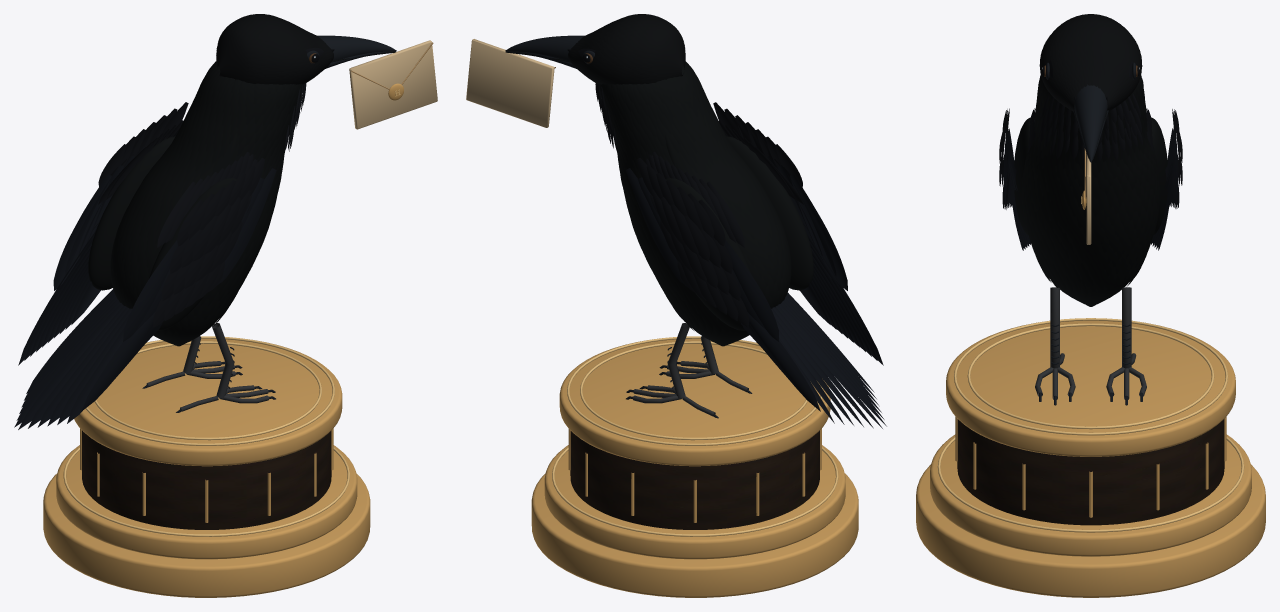
File: raven.glb
3 renders of one model, left to right at view 1: azimuth 30°, elevation 25°; view 2: azimuth 150°, elevation 25°; view 3: azimuth 270°, elevation 25°, orthographic. The views are drawn at different scales.
Visible parts, largest first — view 1: raven_root_Antique brass, raven_body_Raven charcoal underplumage, Pedestal.002, raven_wing_left_Raven satin coverts, raven_tail_Raven blue-black feather vanes, raven_head_Raven charcoal underplumage, raven_wing_right_Raven blue-black feather vanes, Parchment envelope, raven_wing_left_Raven blue-black feather vanes, raven_root_Gold edges, Folded wing volume.001, raven_root_Raven weathered claws (+3 smaller); view 2: raven_root_Antique brass, raven_body_Raven charcoal underplumage, Pedestal.002, raven_wing_right_Raven satin coverts, raven_head_Raven charcoal underplumage, raven_tail_Raven blue-black feather vanes, Parchment envelope, raven_wing_left_Raven blue-black feather vanes, raven_wing_right_Raven blue-black feather vanes, raven_root_Gold edges, Folded wing volume, raven_root_Raven weathered claws (+3 smaller); view 3: raven_root_Antique brass, raven_body_Raven charcoal underplumage, Pedestal.002, raven_head_Raven charcoal underplumage, raven_root_Gold edges, raven_body_Raven satin coverts, raven_root_Raven weathered claws, raven_head_Raven polished keratin, raven_wing_left_Raven blue-black feather vanes, raven_wing_right_Raven blue-black feather vanes, Folded wing volume, Folded wing volume.001 (+3 smaller).
Boxes of the visible parts, left/top/right/bottom form: raven_root_Antique brass: left=43, top=338, right=370, bottom=597; raven_body_Raven charcoal underplumage: left=110, top=61, right=304, bottom=346; Pedestal.002: left=82, top=430, right=331, bottom=529; raven_wing_left_Raven satin coverts: left=153, top=152, right=264, bottom=327; raven_tail_Raven blue-black feather vanes: left=14, top=289, right=131, bottom=429; raven_head_Raven charcoal underplumage: left=216, top=14, right=395, bottom=84; raven_wing_right_Raven blue-black feather vanes: left=18, top=120, right=183, bottom=365; Parchment envelope: left=349, top=40, right=437, bottom=129; raven_wing_left_Raven blue-black feather vanes: left=81, top=168, right=276, bottom=411; raven_root_Gold edges: left=63, top=336, right=349, bottom=536; Folded wing volume.001: left=88, top=136, right=175, bottom=290; raven_root_Raven weathered claws: left=146, top=323, right=269, bottom=411; raven_root_Antique brass: left=531, top=338, right=858, bottom=597; raven_body_Raven charcoal underplumage: left=597, top=61, right=791, bottom=346; Pedestal.002: left=570, top=430, right=819, bottom=529; raven_wing_right_Raven satin coverts: left=637, top=152, right=749, bottom=327; raven_head_Raven charcoal underplumage: left=505, top=14, right=685, bottom=84; raven_tail_Raven blue-black feather vanes: left=771, top=292, right=886, bottom=428; Parchment envelope: left=466, top=39, right=554, bottom=127; raven_wing_left_Raven blue-black feather vanes: left=718, top=120, right=883, bottom=365; raven_wing_right_Raven blue-black feather vanes: left=626, top=168, right=820, bottom=411; raven_root_Gold edges: left=552, top=336, right=838, bottom=536; Folded wing volume: left=726, top=136, right=813, bottom=290; raven_root_Raven weathered claws: left=632, top=323, right=748, bottom=416; raven_root_Antique brass: left=916, top=320, right=1265, bottom=597; raven_body_Raven charcoal underplumage: left=1021, top=75, right=1160, bottom=306; Pedestal.002: left=957, top=419, right=1224, bottom=525; raven_head_Raven charcoal underplumage: left=1039, top=14, right=1142, bottom=162; raven_root_Gold edges: left=937, top=318, right=1244, bottom=532; raven_body_Raven satin coverts: left=1039, top=94, right=1142, bottom=162; raven_root_Raven weathered claws: left=1035, top=287, right=1146, bottom=399; raven_head_Raven polished keratin: left=1046, top=62, right=1135, bottom=162; raven_wing_left_Raven blue-black feather vanes: left=1003, top=128, right=1030, bottom=250; raven_wing_right_Raven blue-black feather vanes: left=1151, top=128, right=1178, bottom=250; Folded wing volume: left=1014, top=117, right=1035, bottom=234; Folded wing volume.001: left=1146, top=117, right=1167, bottom=234.
Bounding box in the file's own units: 2.26 × 2.55 × 1.52.
13 materials, 4 textured.
